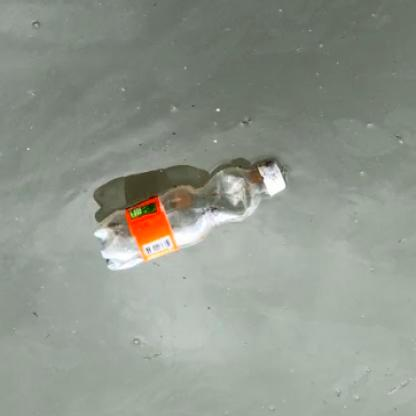Plastic: (90, 157, 287, 274)
